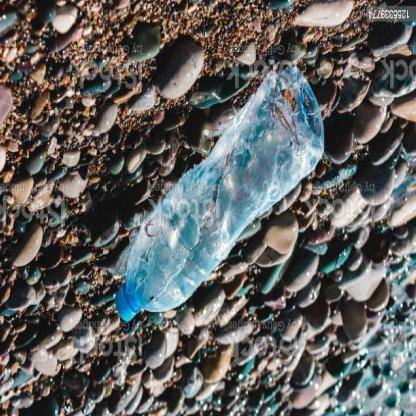Plastic: (110, 55, 326, 326)
